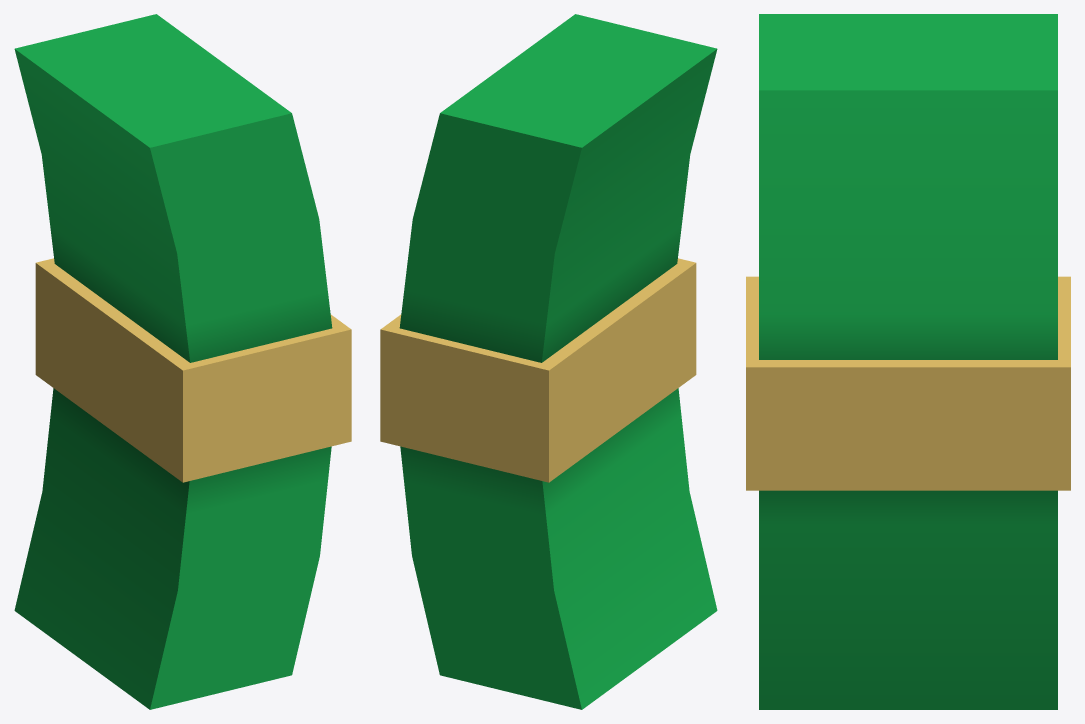
File: Dinheiro.fbx
3 renders of one model, left to right at view 1: azimuth 30°, elevation 25°; view 2: azimuth 150°, elevation 25°; view 3: azimuth 270°, elevation 25°, orthographic. The views are drawn at different scales.
Parts seen in each view (by area): view 1: Cube.001; view 2: Cube.001; view 3: Cube.001.
Boxes of the visible parts, x1,y1,x2,y2 form: Cube.001: [14, 14, 351, 709]; Cube.001: [380, 14, 717, 709]; Cube.001: [746, 14, 1070, 709].
Size of the model in its own units: 72.83 by 200 by 95.03.
Materials: 1 (1 with a texture image).
